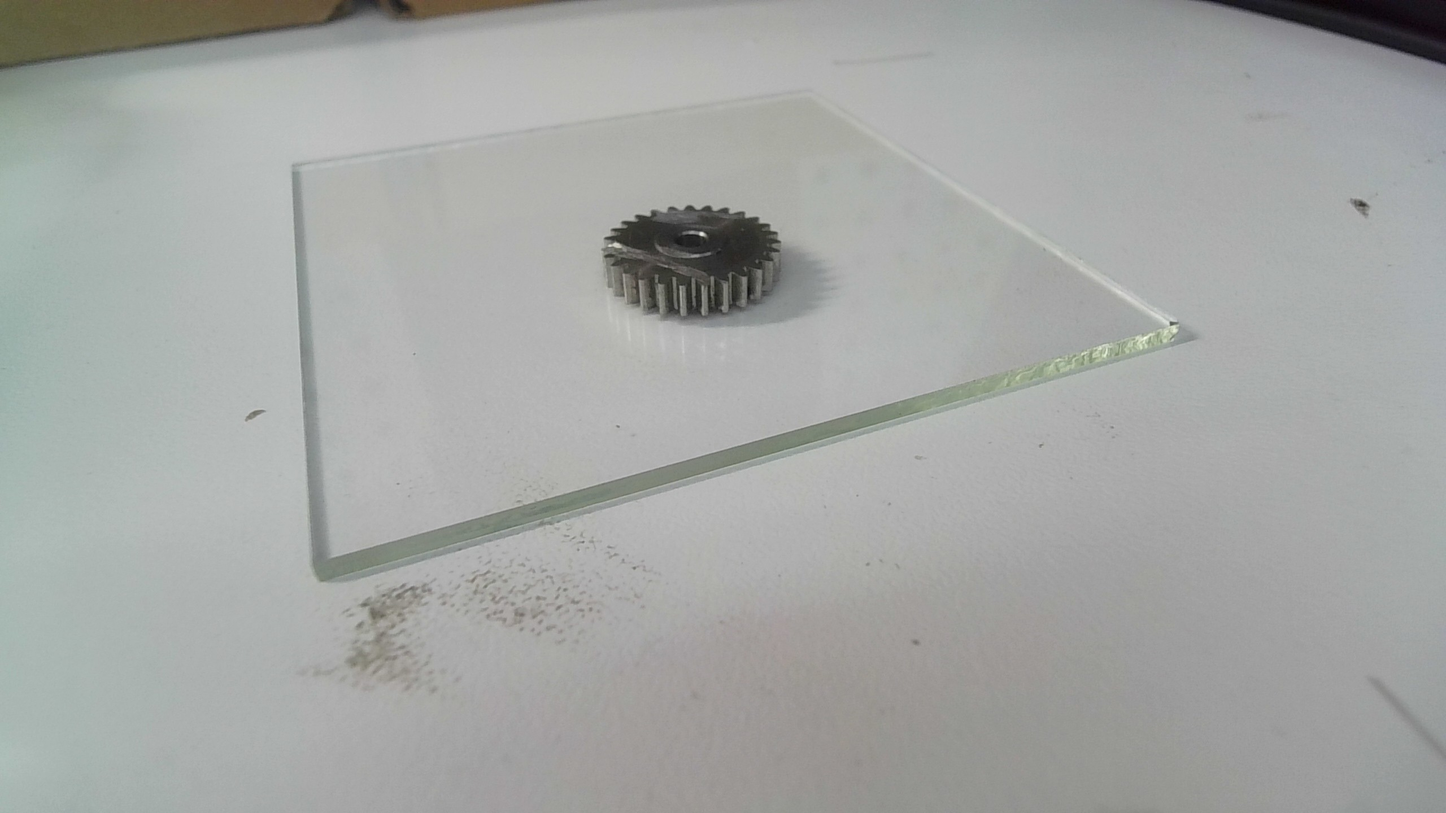gear: (596, 201, 786, 321)
